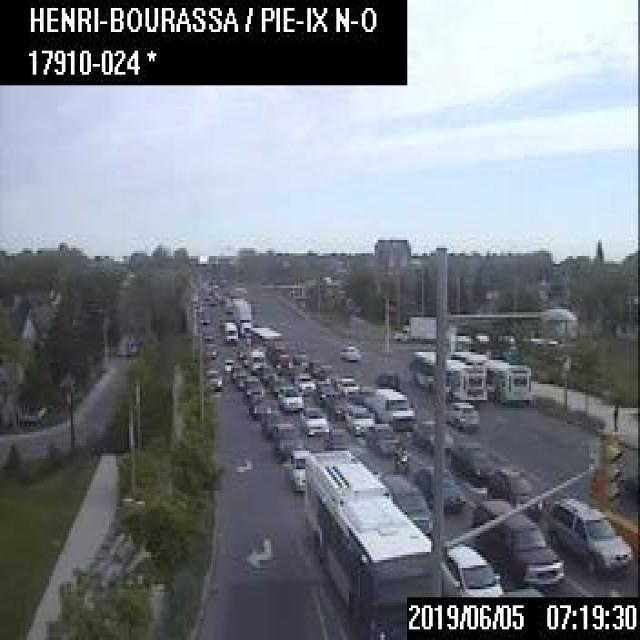bus: (303, 447, 431, 621), (448, 349, 530, 404), (408, 349, 486, 402)
vehicle: (471, 497, 563, 586), (548, 496, 631, 574), (379, 471, 431, 536), (439, 542, 502, 594), (485, 465, 540, 520), (414, 465, 462, 510), (450, 441, 495, 482), (250, 324, 290, 370), (373, 386, 413, 428), (412, 418, 452, 450), (365, 421, 397, 455), (287, 446, 311, 489), (272, 421, 302, 455), (445, 400, 477, 428), (344, 403, 373, 433), (298, 405, 327, 433), (231, 295, 251, 333), (277, 384, 301, 410), (262, 409, 284, 435), (248, 393, 272, 416), (326, 393, 349, 417), (392, 436, 408, 470), (313, 380, 337, 402), (374, 368, 398, 387), (242, 376, 263, 397), (354, 385, 374, 407), (293, 372, 315, 392), (247, 347, 265, 371), (335, 376, 359, 393), (316, 363, 338, 381), (267, 370, 285, 392), (338, 342, 360, 359), (203, 367, 220, 388), (221, 319, 236, 341), (289, 363, 305, 379), (292, 351, 307, 368), (229, 362, 242, 380), (306, 358, 321, 372), (258, 363, 272, 378), (203, 341, 216, 357), (235, 371, 248, 386), (223, 356, 233, 372), (234, 280, 245, 293), (198, 312, 209, 323), (203, 333, 214, 341)
